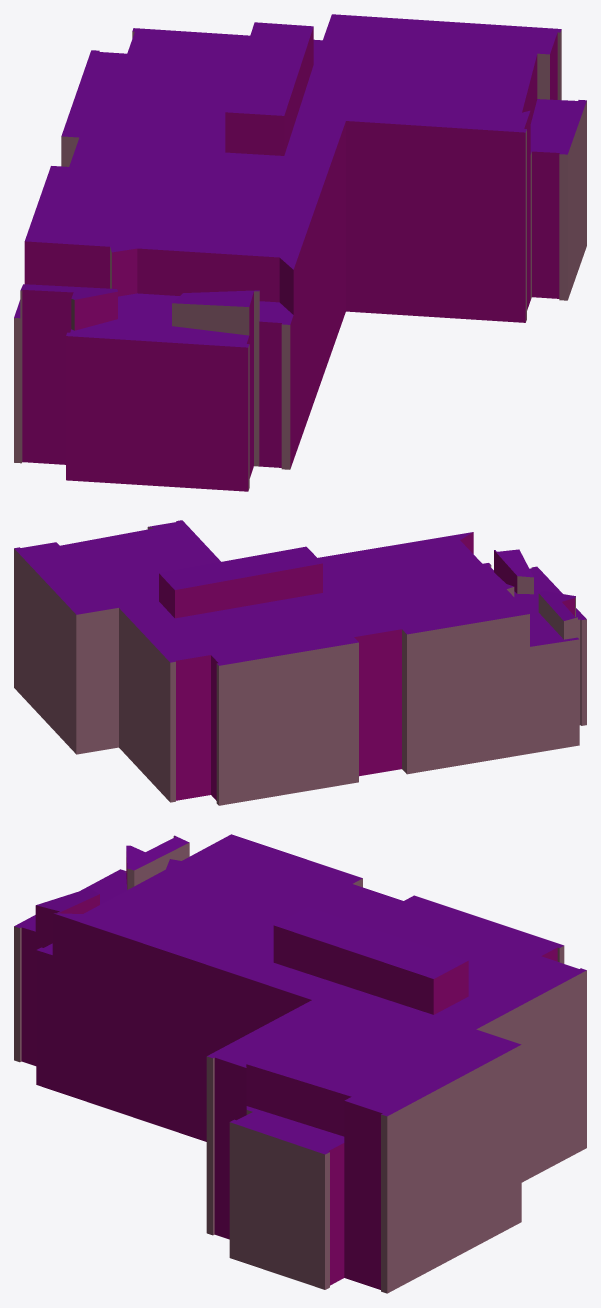
File: buildings_3_14.glb
3 renders of one model, top to bottom at view 1: azimuth 30°, elevation 25°; view 2: azimuth 150°, elevation 25°; view 3: azimuth 270°, elevation 25°, orthographic. The views are drawn at different scales.
Parts seen in each view (by area): view 1: buildings_3_14; view 2: buildings_3_14; view 3: buildings_3_14.
Part boxes in pixels (bbox=[...]): buildings_3_14: bbox=[14, 14, 586, 491]; buildings_3_14: bbox=[14, 520, 586, 805]; buildings_3_14: bbox=[14, 834, 586, 1293].
Size of the model in its own units: 47.71 by 15.96 by 38.56.
